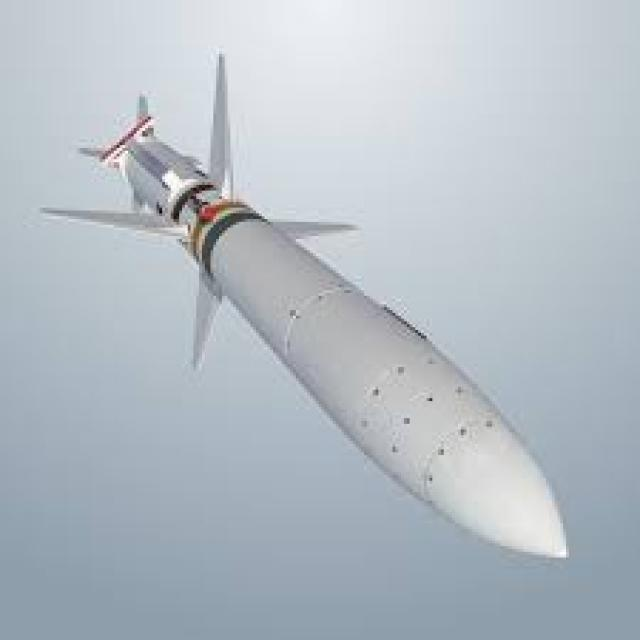missile: (54, 58, 568, 561)
